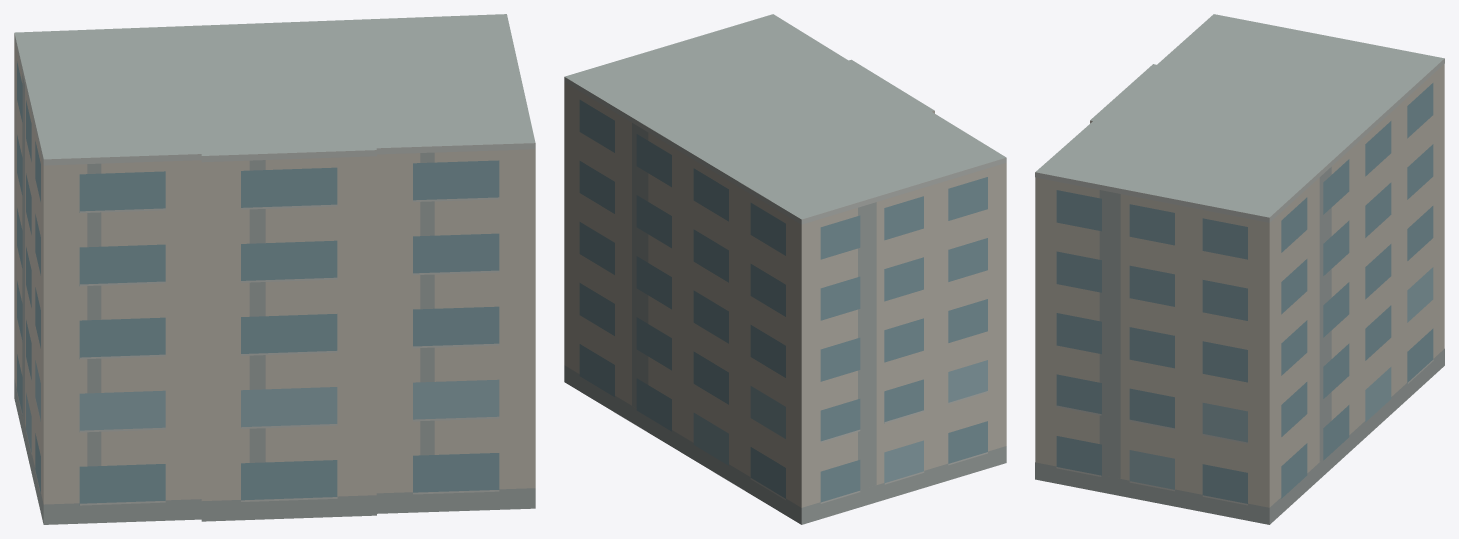
Rendered from survey-upis-32636433.glb.
The picture shows the model from 3 angles, left to right: view 1: azimuth 30°, elevation 25°; view 2: azimuth 150°, elevation 25°; view 3: azimuth 270°, elevation 25°; orthographic projection. The views are drawn at different scales.
Parts seen in each view (by area): view 1: survey-upis-32636433.tmp; view 2: survey-upis-32636433.tmp; view 3: survey-upis-32636433.tmp.
Part boxes in pixels (left/top/right/bottom): survey-upis-32636433.tmp: left=14, top=14, right=535, bottom=524; survey-upis-32636433.tmp: left=564, top=14, right=1006, bottom=524; survey-upis-32636433.tmp: left=1035, top=14, right=1444, bottom=524.
Bounding box in the file's own units: 20.47 × 14.4 × 17.41.
